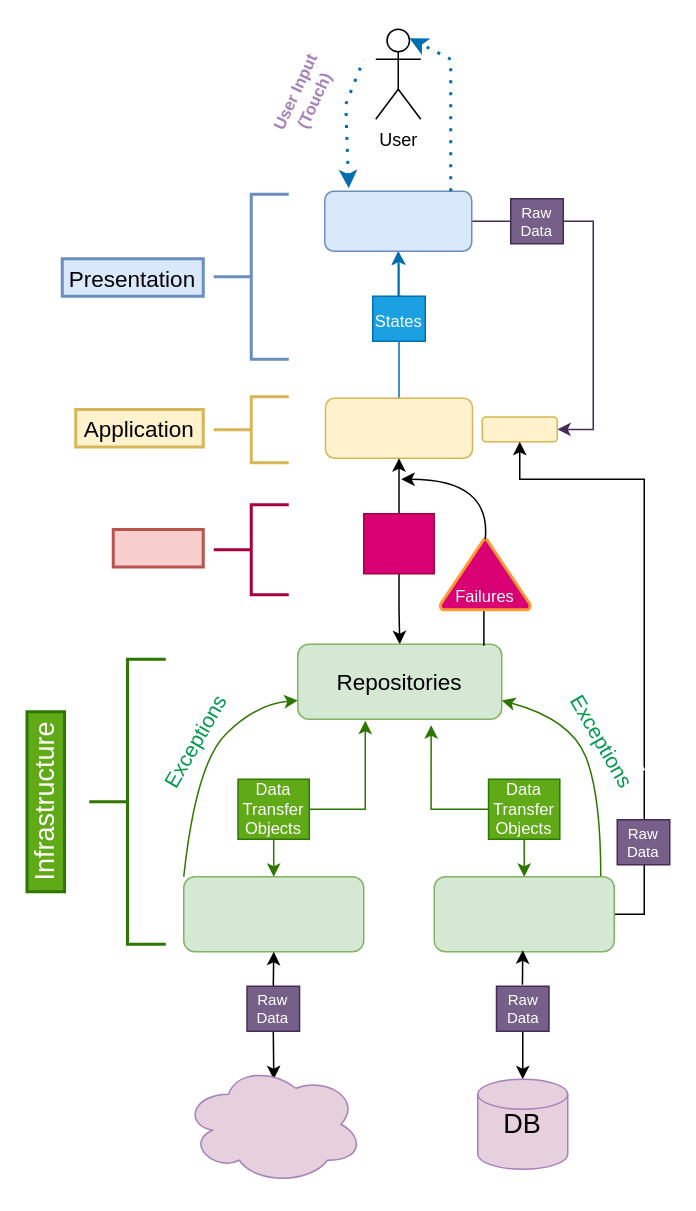
The diagram is 696 pixels wide and 1211 high, and some of its shapes have lost their labels. Here are the shapes that lost their labels. From the top down, the centre of each, then its label:
pixel 397 220: Widgets
pixel 398 427: Immutable Notifiers
pixel 519 429: Methods
pixel 157 547: Domain
pixel 398 543: Entities
pixel 273 913: Remote Services
pixel 523 913: Local Services
pixel 272 1123: API
